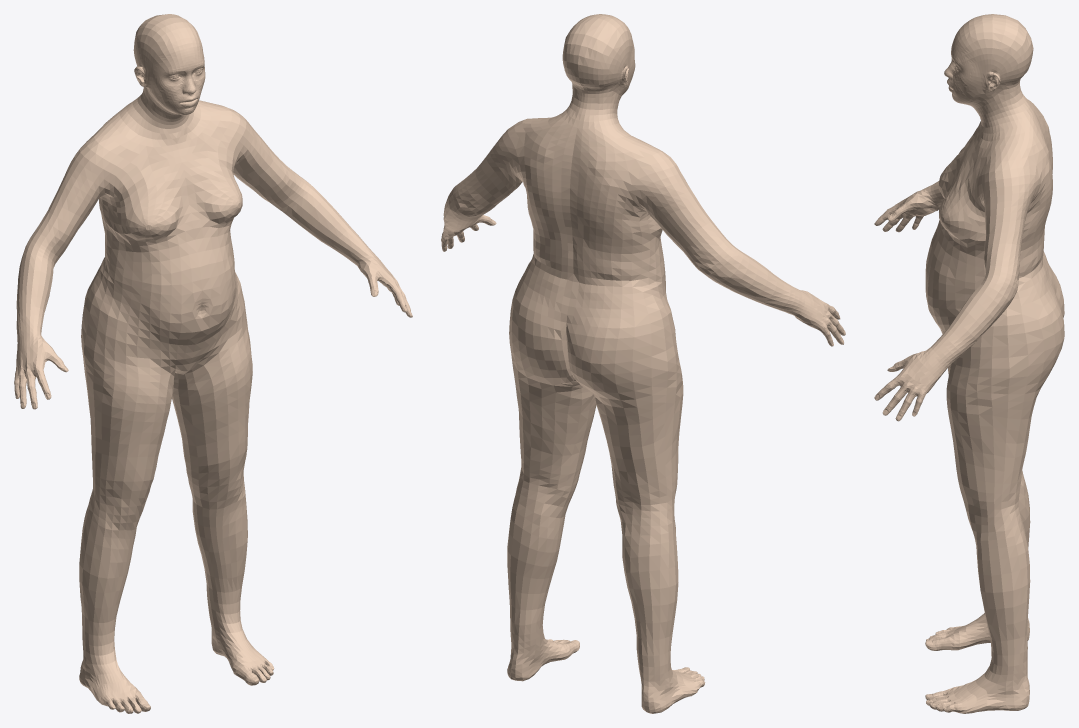
The model's file is female-young-max-low.glb.
The picture shows the model from 3 angles, left to right: view 1: azimuth 30°, elevation 25°; view 2: azimuth 150°, elevation 25°; view 3: azimuth 270°, elevation 25°; orthographic projection.
Visible parts, largest first — view 1: world; view 2: world; view 3: world.
Part boxes in pixels (x1,y1,x2,y2): world: (14,14,412,713); world: (441,14,845,713); world: (874,14,1064,713).
Bounding box in the file's own units: 1.09 × 1.76 × 0.4591.
